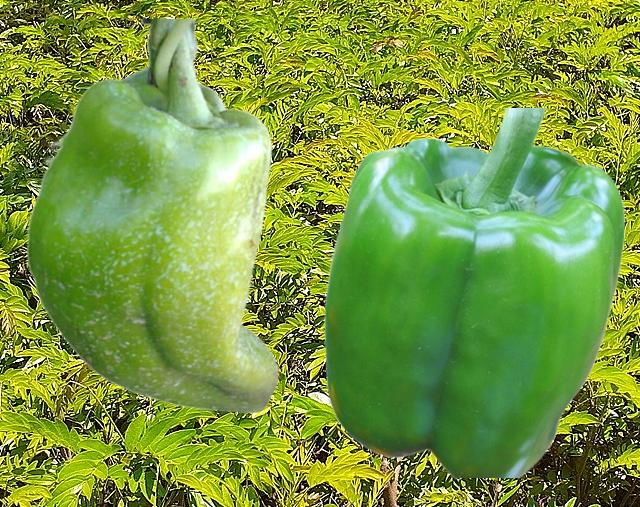bell_pepper: (323, 108, 624, 476), (25, 19, 278, 412)
